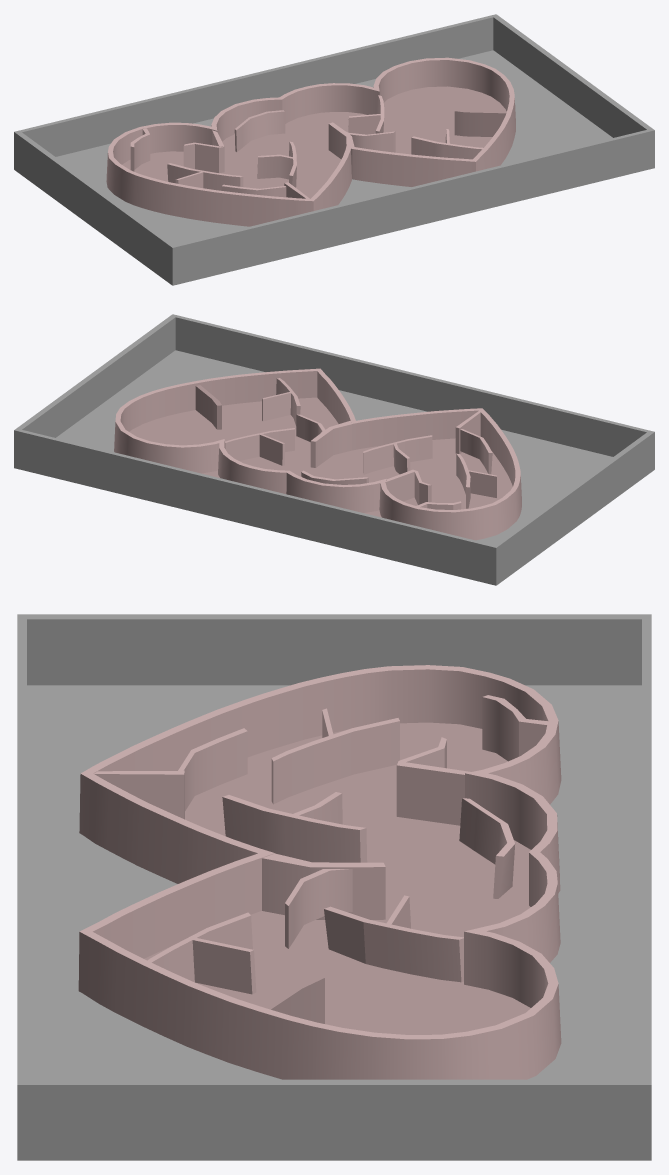
The model's file is Heart Maze with base.fbx.
3 renders of one model, top to bottom at view 1: azimuth 30°, elevation 25°; view 2: azimuth 150°, elevation 25°; view 3: azimuth 270°, elevation 25°, orthographic. The views are drawn at different scales.
Parts seen in each view (by area): view 1: pCube12, polySurface5, pCube3, pCube8, pCube10, pCube9, pCube4, pCube6, pCube11; view 2: pCube12, polySurface5, pCube9, pCube4, pCube10, pCube3, pCube11, pCube6, pCube8; view 3: pCube12, polySurface5, pCube9, pCube4, pCube3, pCube10, pCube6, pCube11, pCube8.
Part boxes in pixels (box(x1,y1,x2,y2)): pCube12: box(14, 14, 654, 285); polySurface5: box(106, 57, 515, 226); pCube3: box(167, 163, 243, 190); pCube8: box(234, 110, 285, 151); pCube10: box(411, 129, 483, 159); pCube9: box(257, 141, 296, 187); pCube4: box(348, 95, 384, 134); pCube6: box(347, 131, 395, 152); pCube11: box(221, 184, 286, 197); pCube12: box(14, 314, 654, 585); polySurface5: box(114, 368, 521, 540); pCube9: box(363, 435, 432, 474); pCube4: box(225, 428, 294, 465); pCube10: box(262, 378, 300, 425); pCube3: box(456, 453, 496, 508); pCube11: box(460, 429, 492, 474); pCube6: box(296, 414, 325, 441); pCube8: box(301, 470, 368, 484); pCube12: box(17, 614, 651, 1160); polySurface5: box(78, 665, 561, 1079); pCube9: box(222, 792, 367, 862); pCube4: box(324, 895, 463, 982); pCube3: box(271, 708, 399, 804); pCube10: box(147, 912, 256, 994); pCube6: box(285, 869, 352, 948); pCube11: box(178, 728, 247, 810); pCube8: box(459, 798, 515, 898).
Size of the model in its own units: 21.77 by 1.69 by 12.41.
